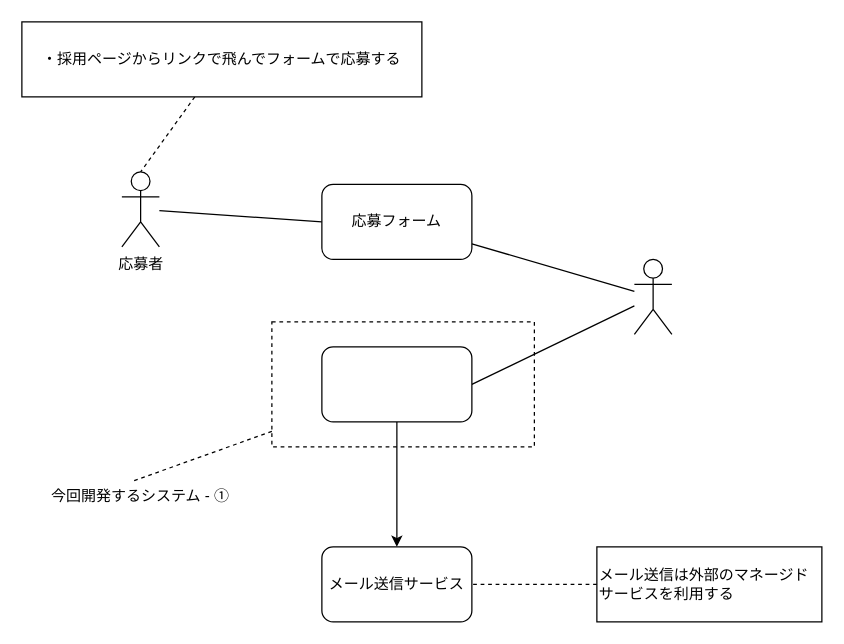
This 844x644 diagram has some shape labels left out. The shapes that lost their labels are listed below. From the top down, each one's centre as x and y in pixels, then its label:
At [652,296]: "採用担当者".
At [396,384]: "採用管理システム".
